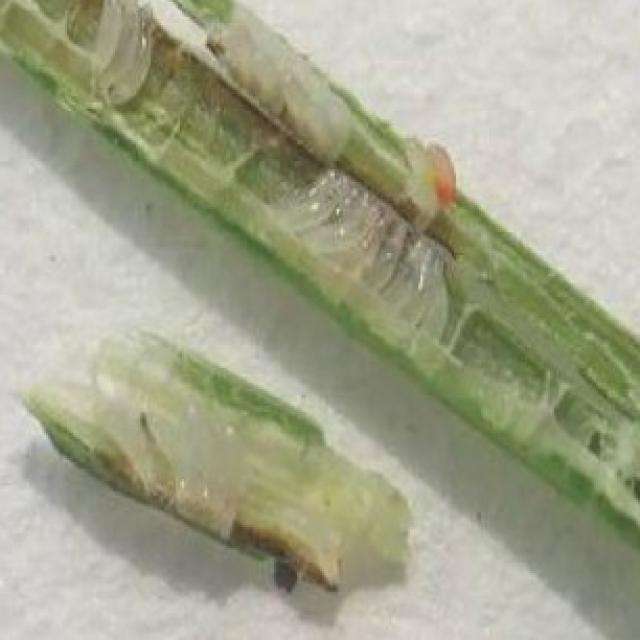brown plant hopper: (263, 165, 454, 335), (92, 0, 151, 102)
